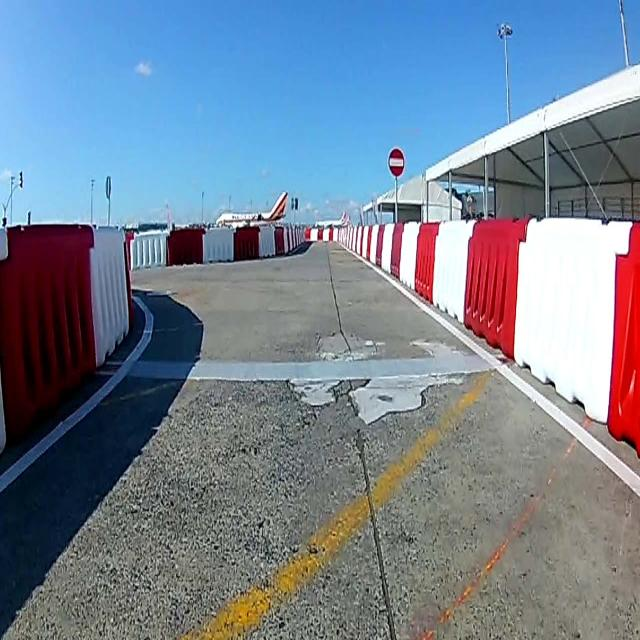girisyok: (387, 148, 405, 178)
